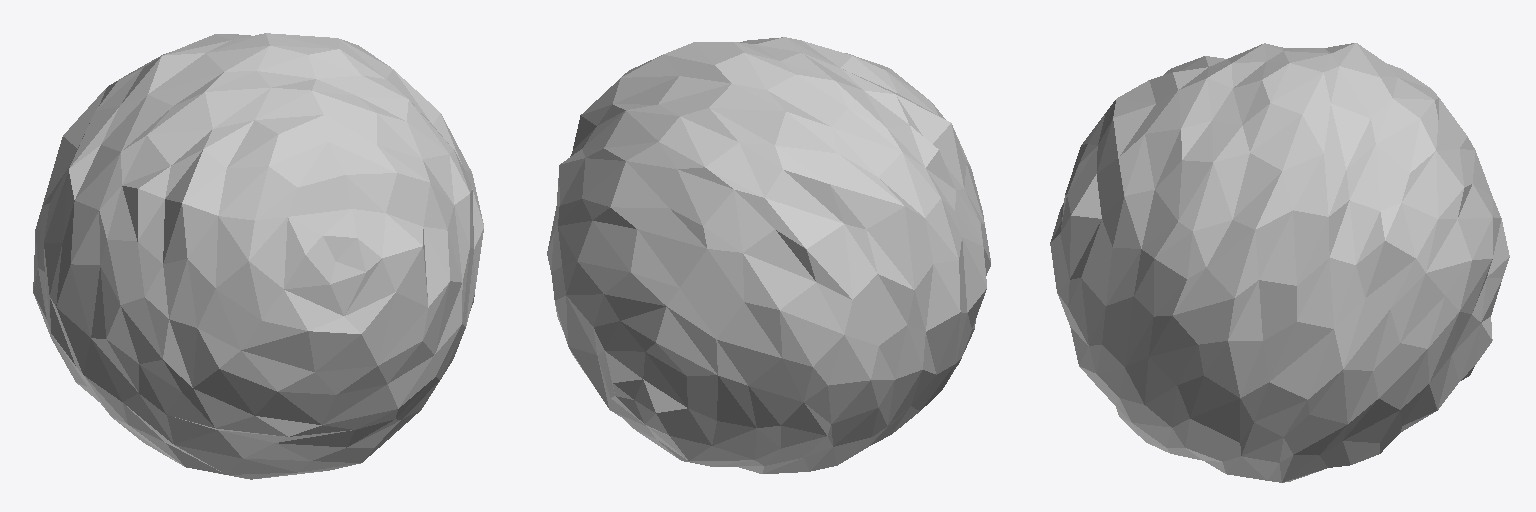
The model's file is venus.obj.
The picture shows the model from 3 angles: view 1: azimuth 30°, elevation 25°; view 2: azimuth 150°, elevation 25°; view 3: azimuth 270°, elevation 25°; orthographic projection.
Parts seen in each view (by area): view 1: Venus; view 2: Venus; view 3: Venus.
Part boxes in pixels (x1,y1,x2,y2): Venus: (33, 33, 483, 479); Venus: (547, 37, 990, 473); Venus: (1050, 43, 1509, 482).
Bounding box in the file's own units: 1.83 × 1.81 × 1.86.